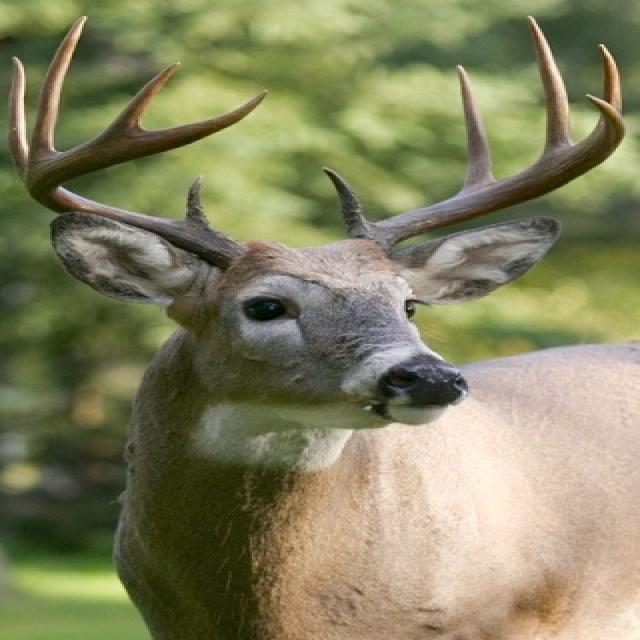L-F: (348, 94, 627, 253)
L-G1: (324, 167, 372, 238)
L-G2: (458, 65, 495, 194)
L-G3: (529, 15, 574, 155)
R-F: (24, 90, 271, 268)
R-G1: (185, 175, 209, 229)
R-G2: (8, 55, 28, 180)
R-G3: (28, 15, 89, 161)
R-G4: (100, 62, 179, 134)
